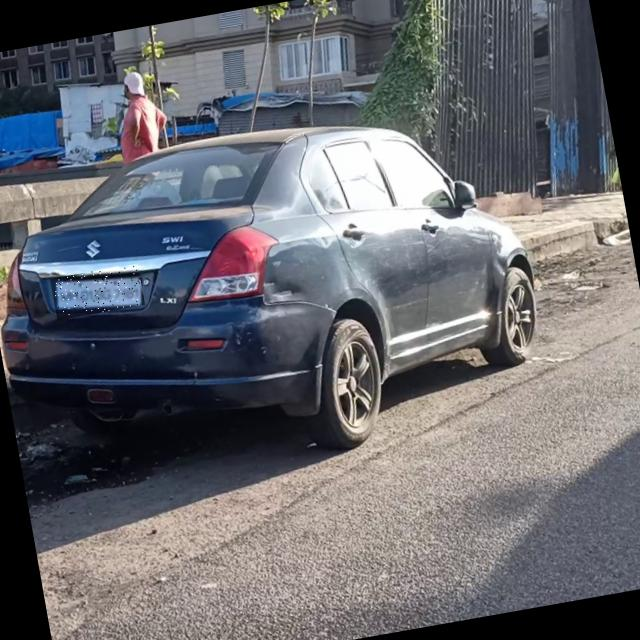Plate: (51, 264, 146, 321)
